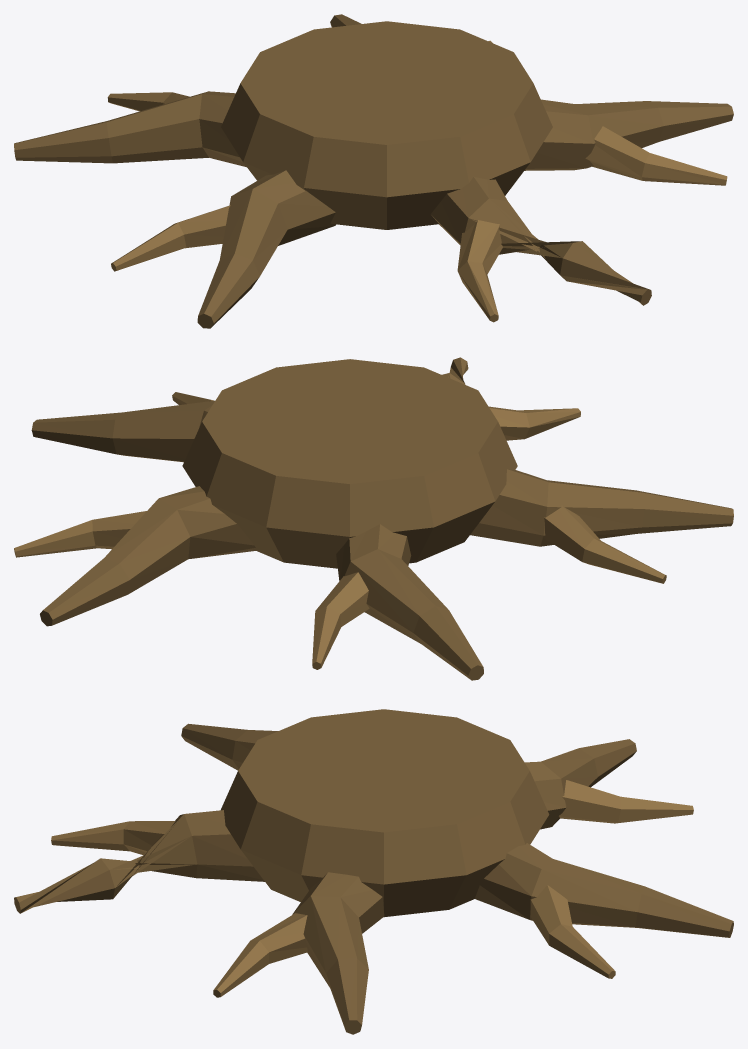
File: CreepingRoot.glb
3 views of the same model, one above another, from view 1: azimuth 30°, elevation 25°; view 2: azimuth 150°, elevation 25°; view 3: azimuth 270°, elevation 25° (orthographic).
Visible parts, largest first — view 1: CreepingRoot_CreepingRootRoot, CreepingRoot_CreepingRootYoungRoot; view 2: CreepingRoot_CreepingRootRoot, CreepingRoot_CreepingRootYoungRoot; view 3: CreepingRoot_CreepingRootRoot, CreepingRoot_CreepingRootYoungRoot.
Part boxes in pixels (x1,y1,x2,y2): CreepingRoot_CreepingRootRoot: [14, 14, 733, 328]; CreepingRoot_CreepingRootYoungRoot: [107, 40, 727, 322]; CreepingRoot_CreepingRootRoot: [31, 357, 733, 680]; CreepingRoot_CreepingRootYoungRoot: [14, 392, 666, 669]; CreepingRoot_CreepingRootRoot: [14, 709, 733, 1034]; CreepingRoot_CreepingRootYoungRoot: [51, 780, 693, 997].
Size of the model in its own units: 3.67 by 0.6 by 3.7.
